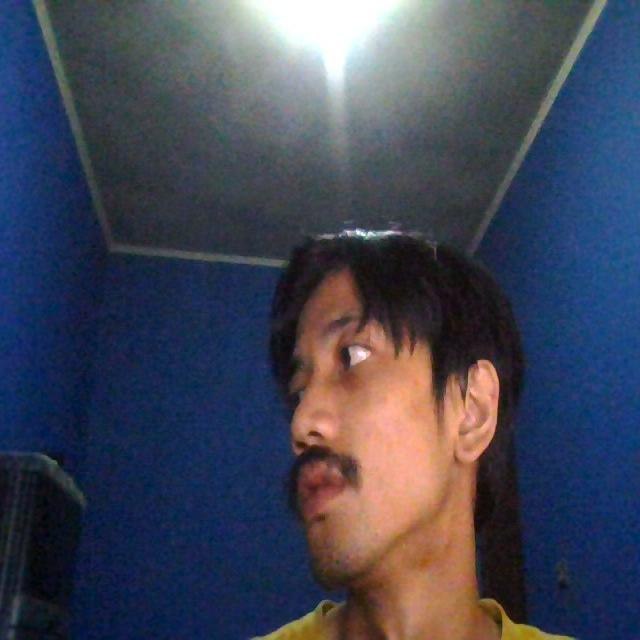Melihat kekanan: (240, 210, 528, 572)
